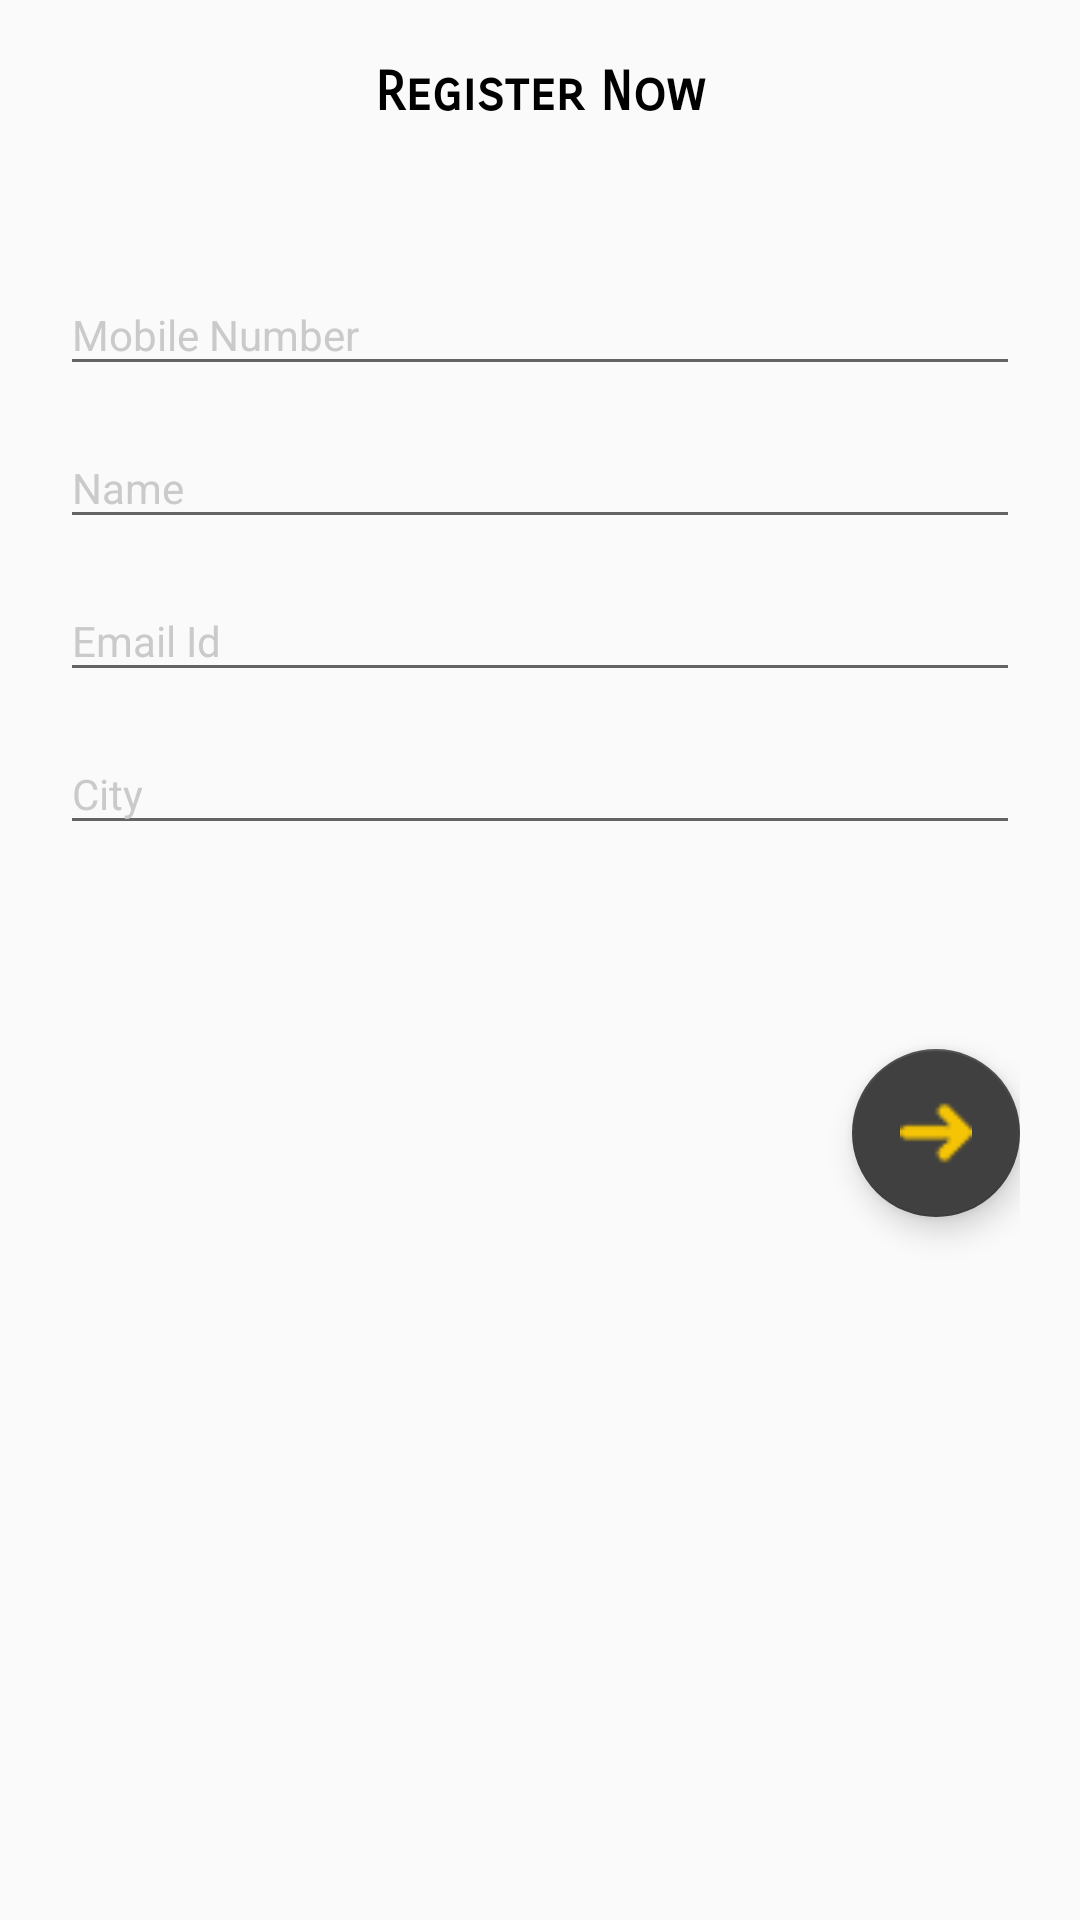

Icon click points for this 1080w x 1920h phone screenshot, format point (x, y):
right arrow: point (936, 1133)
